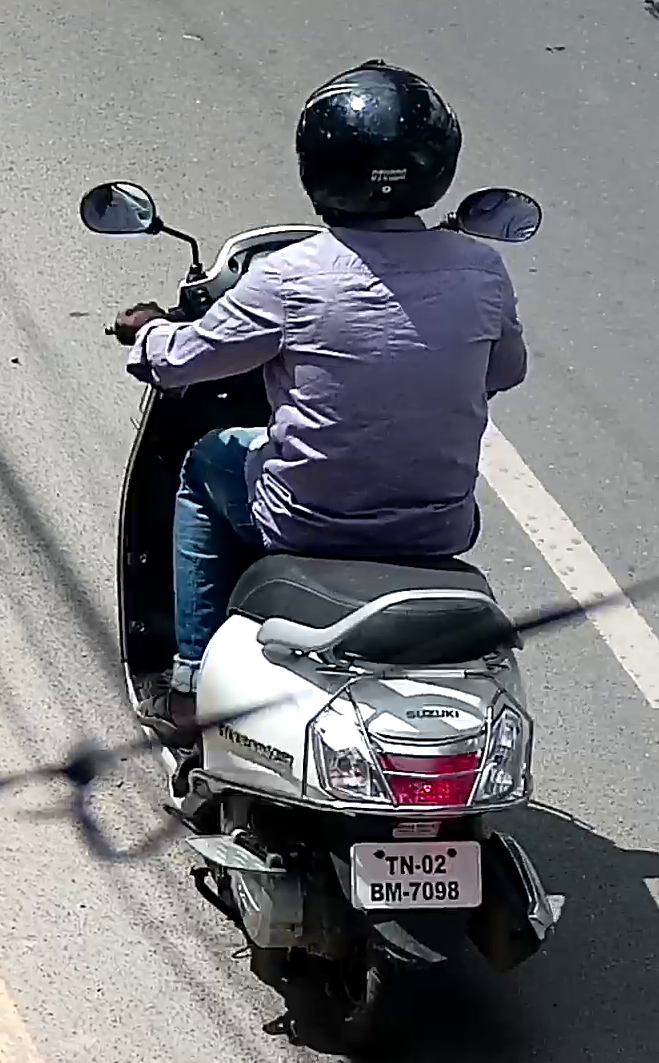-: (403, 891, 409, 897), (415, 864, 420, 870)
0: (422, 881, 434, 900), (422, 854, 433, 874)
2: (434, 854, 447, 874)
7: (409, 882, 422, 901)
8: (447, 880, 459, 900)
9: (434, 881, 446, 901)
B: (370, 882, 384, 902)
M: (385, 881, 402, 902)
N: (400, 854, 414, 875)
P16: (349, 840, 483, 911)
T: (385, 856, 399, 875)
